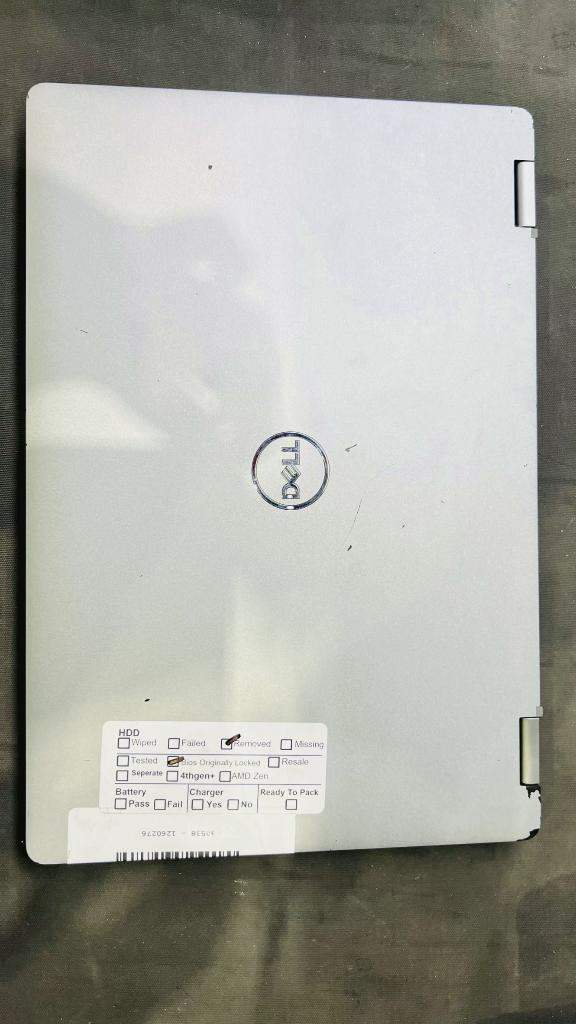scratch: (337, 462, 398, 554), (516, 828, 541, 841), (525, 785, 541, 798), (345, 444, 357, 452), (347, 545, 352, 552), (537, 796, 541, 804), (144, 698, 150, 703), (208, 165, 213, 170)
